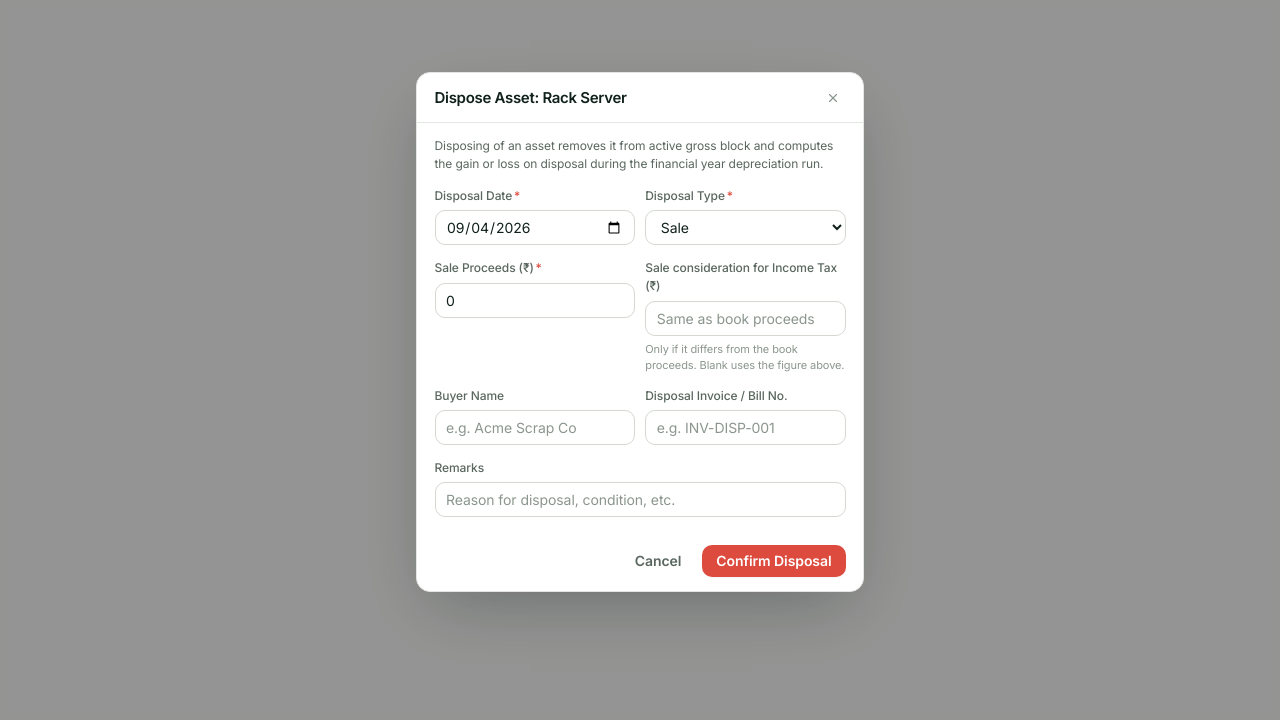
AssetDisposalModal — server refusal handling › closes and explains when the server refuses with 403
Click the button "Confirm Disposal": point(774, 561) [702, 545, 846, 577]
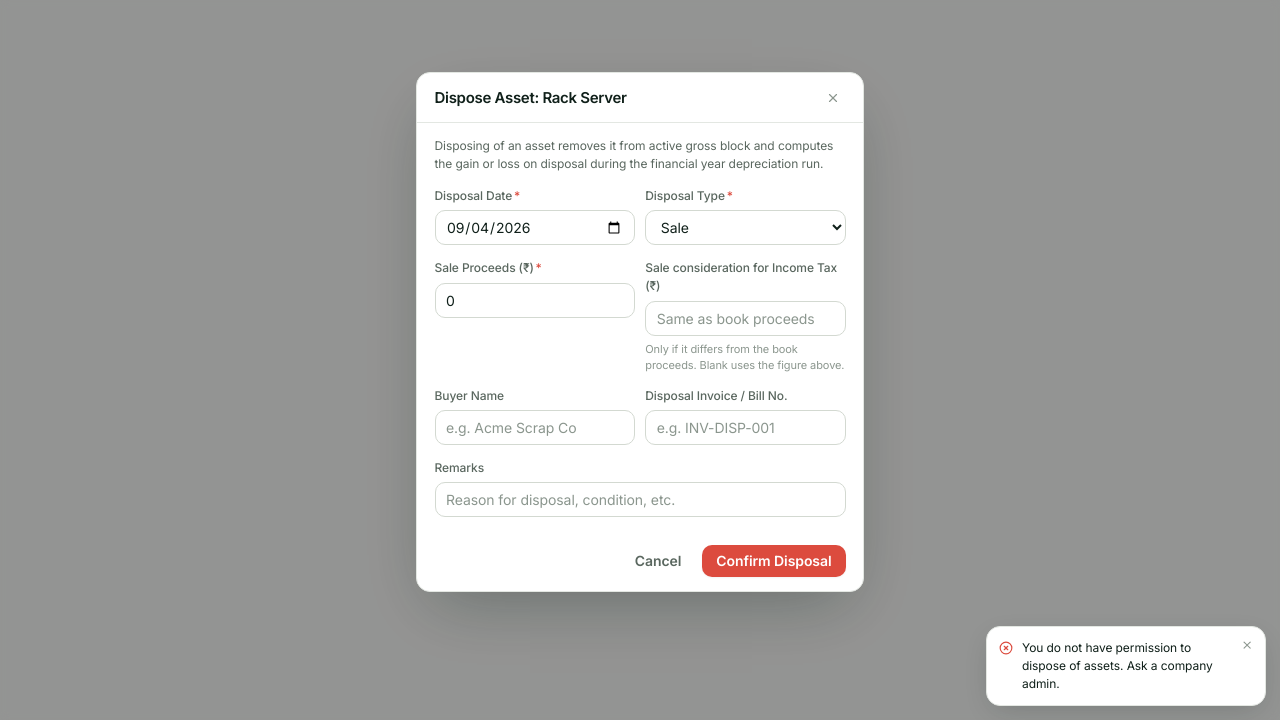
Now the text "do not have permission to dispose" is shown, box [1022, 640, 1213, 691]
